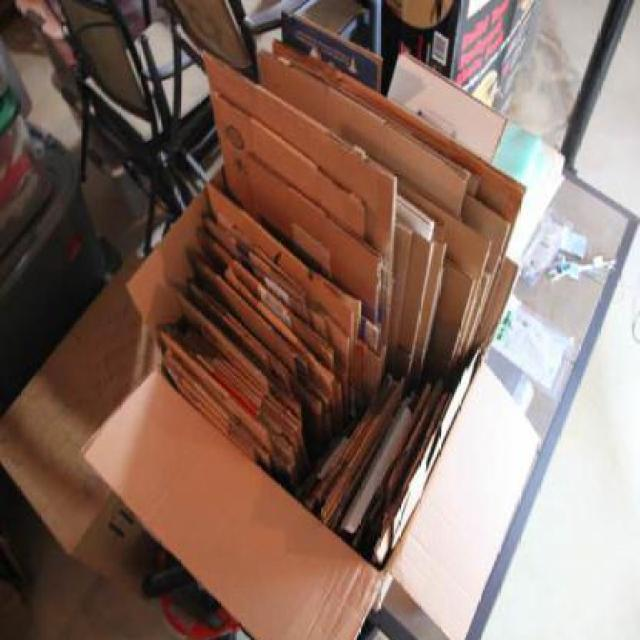box: (61, 34, 584, 640)
